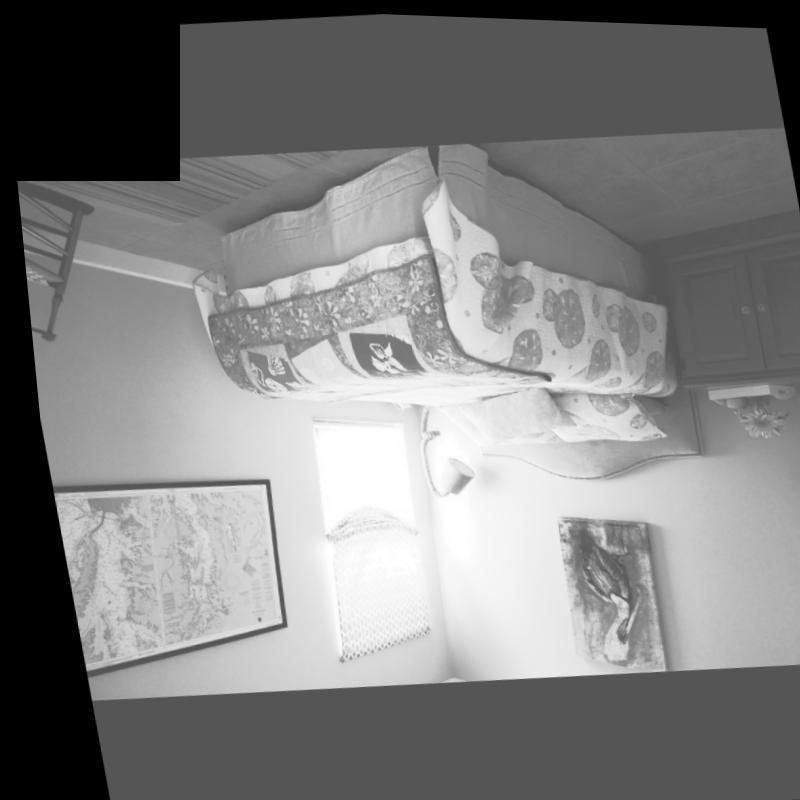pillow: (450, 378, 573, 450), (542, 381, 659, 446), (428, 393, 542, 455)
